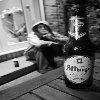beer: (61, 6, 96, 90)
